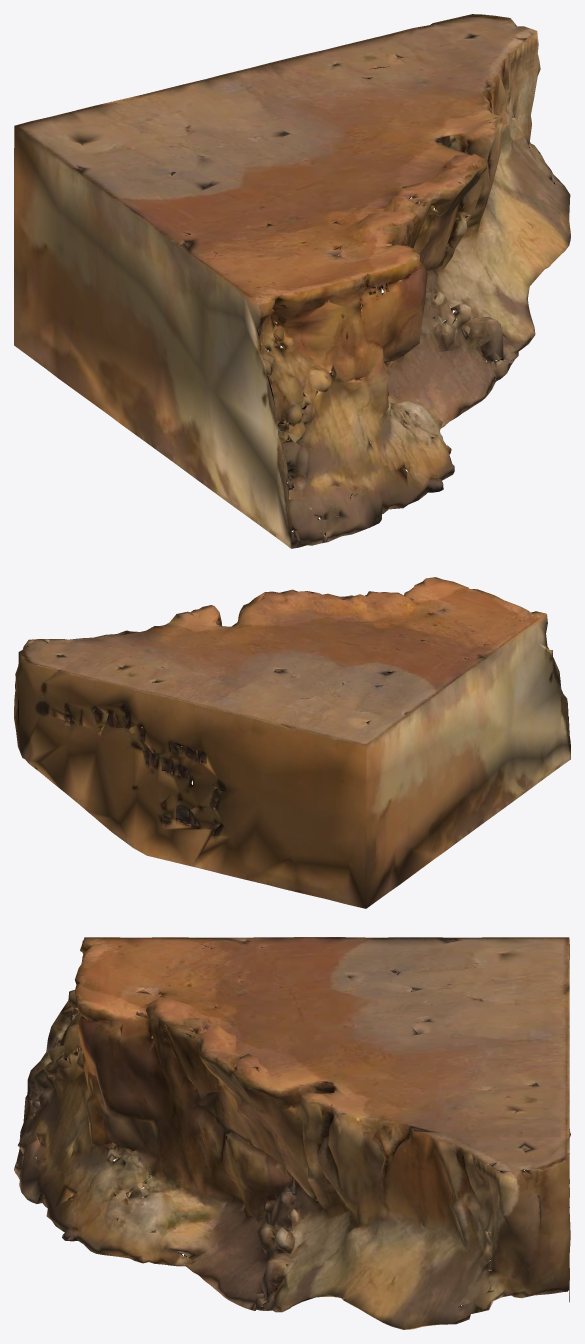
The model's file is redcliff_a.glb.
3 renders of one model, top to bottom at view 1: azimuth 30°, elevation 25°; view 2: azimuth 150°, elevation 25°; view 3: azimuth 270°, elevation 25°, orthographic. The views are drawn at different scales.
Parts seen in each view (by area): view 1: redcliff_a_00; view 2: redcliff_a_00; view 3: redcliff_a_00.
Part boxes in pixels (box(x1,y1,x2,y2)): redcliff_a_00: box(14, 14, 570, 548); redcliff_a_00: box(14, 577, 570, 908); redcliff_a_00: box(14, 937, 570, 1329).
Bounding box in the file's own units: 1.9 × 0.865 × 1.86.
1 material, 1 textured.
